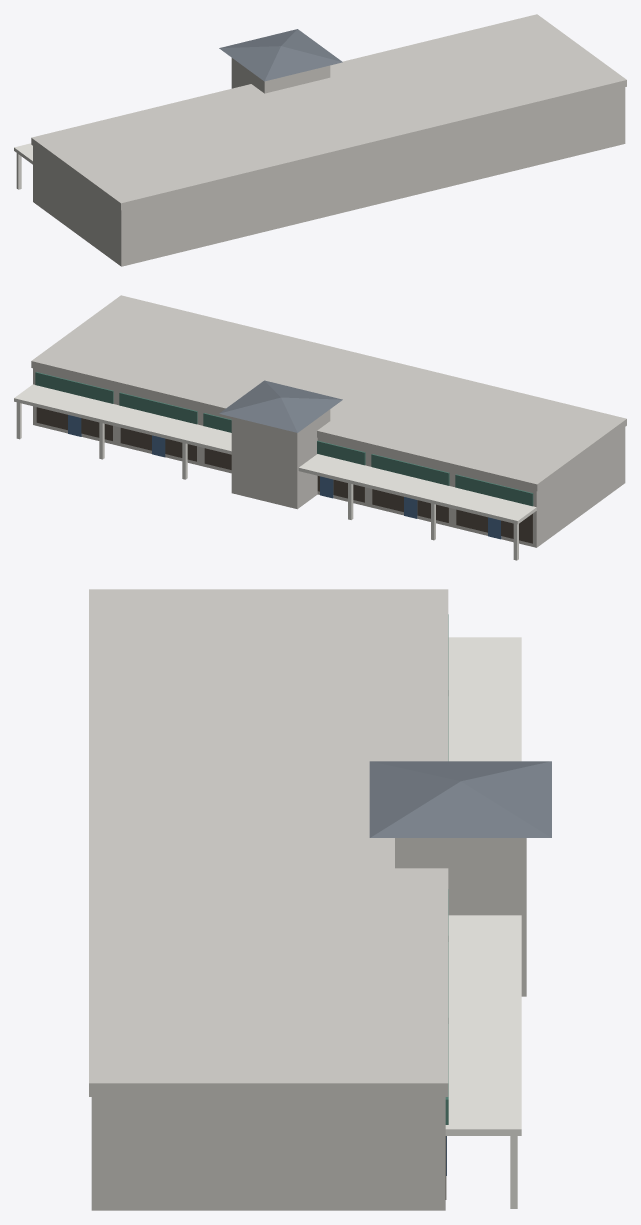
The model's file is strip_mall.glb.
3 renders of one model, top to bottom at view 1: azimuth 30°, elevation 25°; view 2: azimuth 150°, elevation 25°; view 3: azimuth 270°, elevation 25°, orthographic. The views are drawn at different scales.
Parts seen in each view (by area): view 1: strip_mall; view 2: strip_mall; view 3: strip_mall.
Part boxes in pixels (x1,y1,x2,y2): strip_mall: (14,14,626,266); strip_mall: (14,295,626,560); strip_mall: (89,589,551,1210).
Bounding box in the file's own units: 46.2 × 8 × 18.3.
